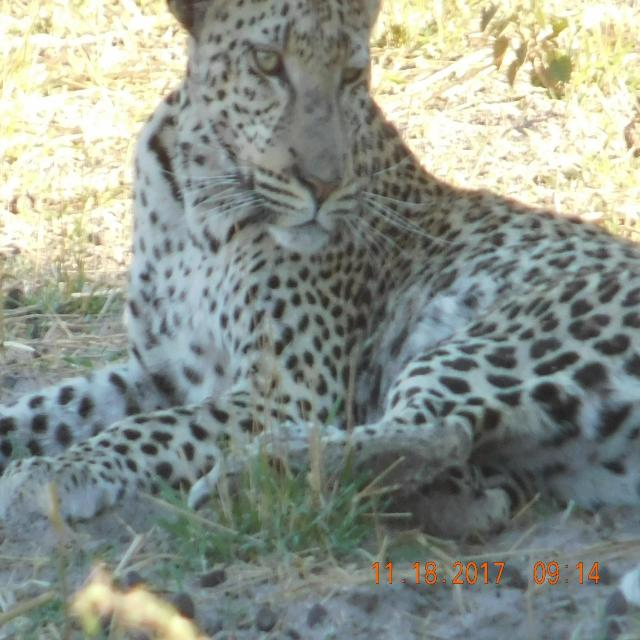Leopard: (0, 3, 640, 595)
